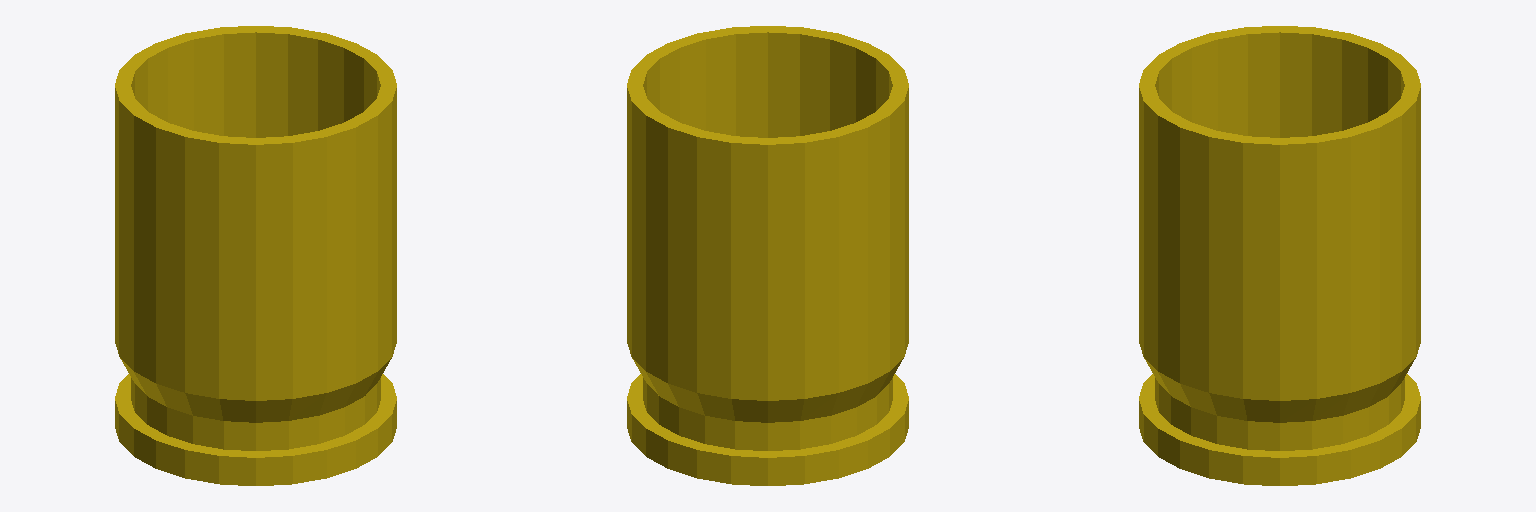
File: ammo_pistol_used.obj
The picture shows the model from 3 angles: view 1: azimuth 30°, elevation 25°; view 2: azimuth 150°, elevation 25°; view 3: azimuth 270°, elevation 25°; orthographic projection.
Parts seen in each view (by area): view 1: ammo_pistol.001; view 2: ammo_pistol.001; view 3: ammo_pistol.001.
Part boxes in pixels (x1,y1,x2,y2): ammo_pistol.001: (115,26,396,485); ammo_pistol.001: (627,26,908,485); ammo_pistol.001: (1139,26,1420,485).
Size of the model in its own units: 0.0054 by 0.0072 by 0.0054.